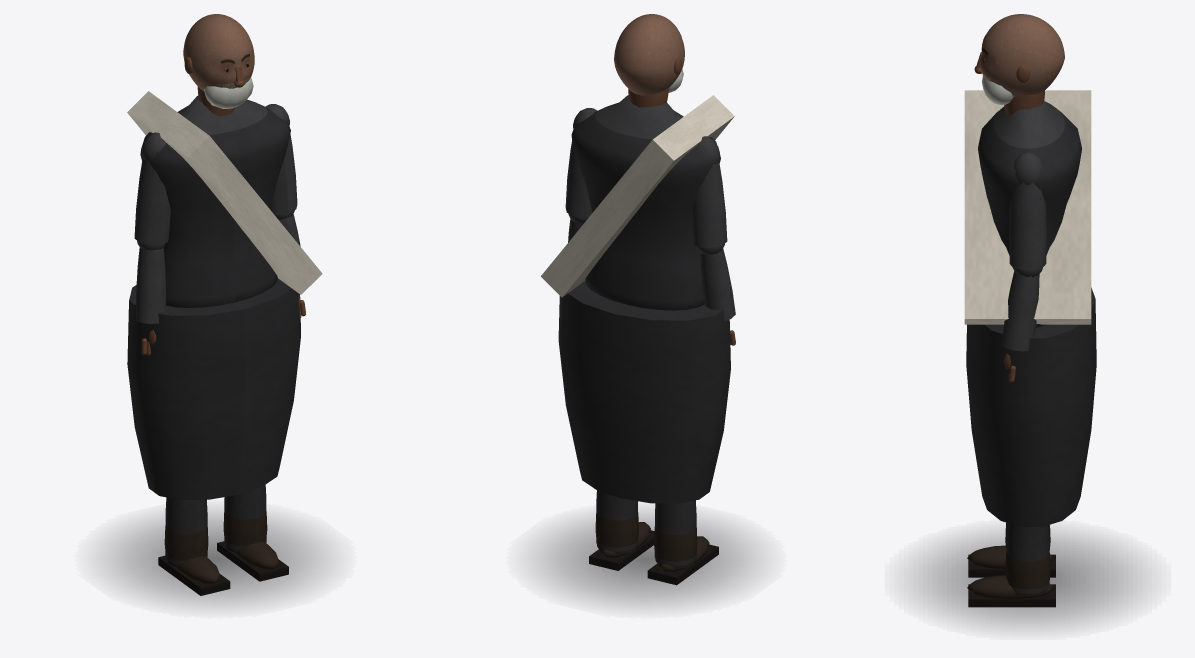
The model's file is npc_amos.glb.
3 renders of one model, left to right at view 1: azimuth 30°, elevation 25°; view 2: azimuth 150°, elevation 25°; view 3: azimuth 270°, elevation 25°, orthographic. The views are drawn at different scales.
Visible parts, largest first — view 1: object 7, chest, object 12, head, shinL, shinR, armL, foreL, armR; view 2: object 7, chest, object 12, head, shinL, shinR, armL, foreL, armR; view 3: chest, object 7, object 12, head, shinR, armR, foreR, shinL.
Part boxes in pixels (box(x1,y1,x2,y2)): object 7: box(127, 278, 300, 499); chest: box(127, 86, 322, 307); object 12: box(103, 511, 328, 606); head: box(183, 14, 254, 108); shinL: box(158, 497, 230, 595); shinR: box(217, 485, 288, 581); armL: box(134, 132, 170, 244); foreL: box(136, 241, 166, 355); armR: box(265, 104, 297, 214); object 7: box(558, 281, 730, 503); chest: box(541, 88, 734, 310); object 12: box(534, 512, 758, 606); head: box(614, 14, 684, 95); shinL: box(647, 500, 718, 585); shinR: box(589, 490, 654, 570); armL: box(691, 136, 727, 247); foreL: box(696, 243, 735, 345); armR: box(565, 108, 597, 218); chest: box(964, 90, 1091, 327); object 7: box(966, 287, 1096, 526); object 12: box(913, 531, 1142, 627); head: box(974, 14, 1064, 104); shinR: box(967, 523, 1055, 607); armR: box(1009, 152, 1046, 269); foreR: box(1001, 267, 1042, 382); shinL: box(967, 522, 1055, 577).
Bounding box in the file's own units: 0.868 × 1.78 × 0.868.
6 materials, 5 textured.
